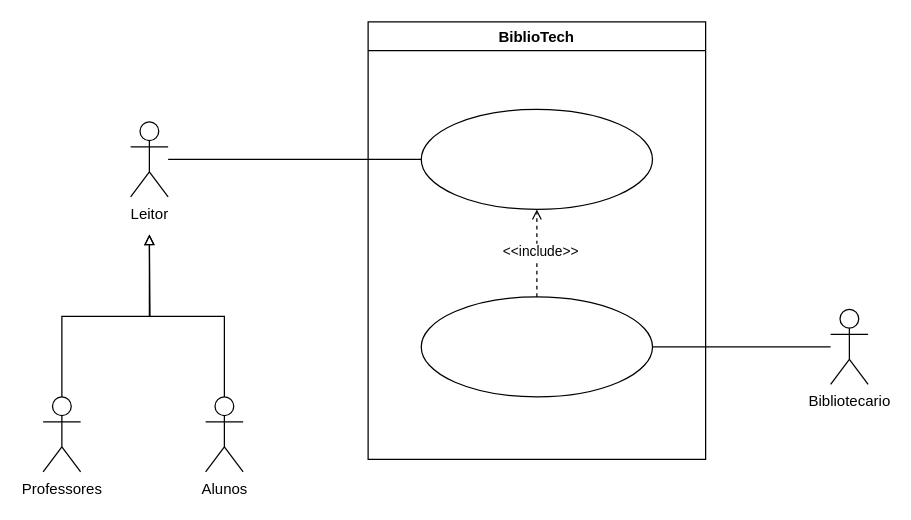
This 911x520 diagram has some shape labels left out. Here are the shapes that lost their labels. From the top down, the centre of each, then its label:
the point at 536,158: Reservar livro
the point at 536,346: Emprestar livro
